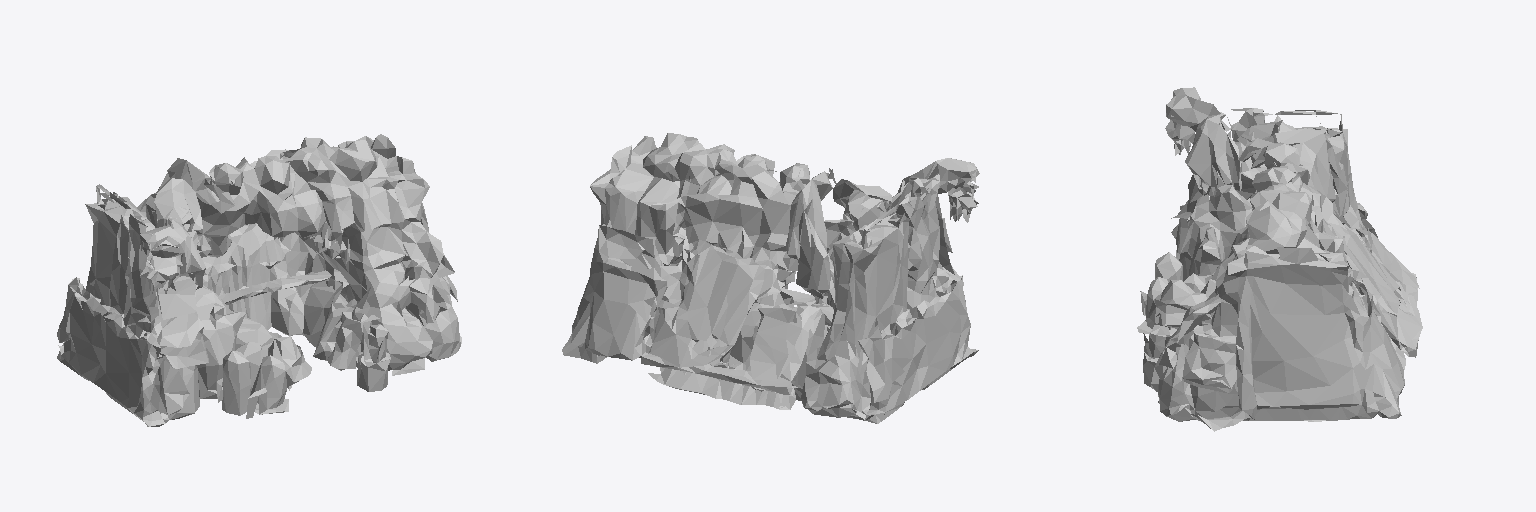
The model's file is Colorful_Market_Stall_1122091907_texture.obj.
3 views of the same model, side by side, from view 1: azimuth 30°, elevation 25°; view 2: azimuth 150°, elevation 25°; view 3: azimuth 270°, elevation 25° (orthographic).
Visible parts, largest first — view 1: Colorful_Market_Stall_[number redacted]_texture; view 2: Colorful_Market_Stall_[number redacted]_texture; view 3: Colorful_Market_Stall_[number redacted]_texture.
Part boxes in pixels (x1,y1,x2,y2): Colorful_Market_Stall_[number redacted]_texture: (57, 134, 461, 426); Colorful_Market_Stall_[number redacted]_texture: (562, 133, 979, 423); Colorful_Market_Stall_[number redacted]_texture: (1137, 87, 1422, 431).
Bounding box in the file's own units: 2.91 × 1.7 × 2.2.